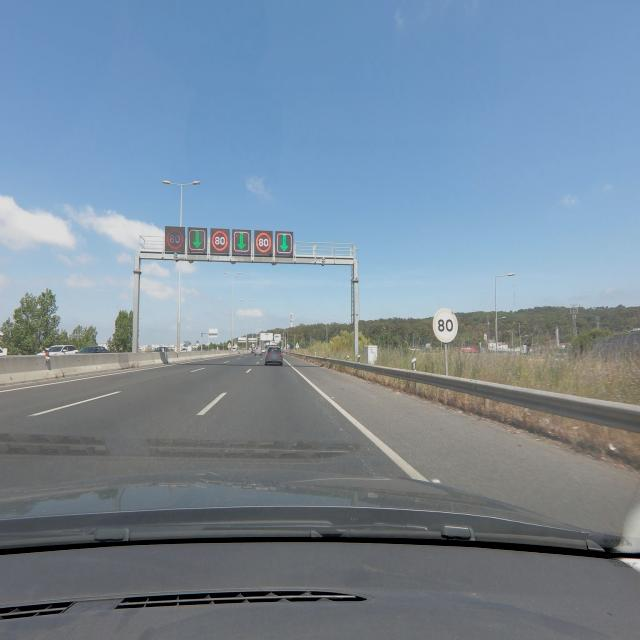car: (264, 345, 284, 366), (44, 345, 72, 355), (78, 345, 111, 353)
